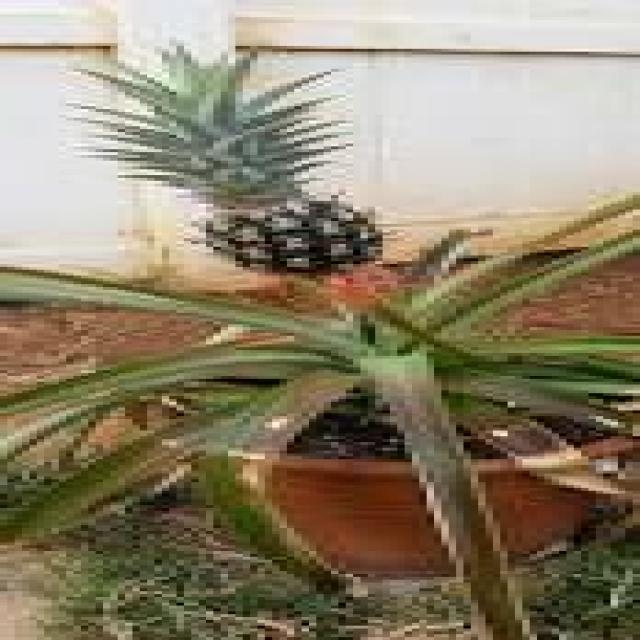Organik: (7, 261, 640, 436), (97, 52, 382, 264)
